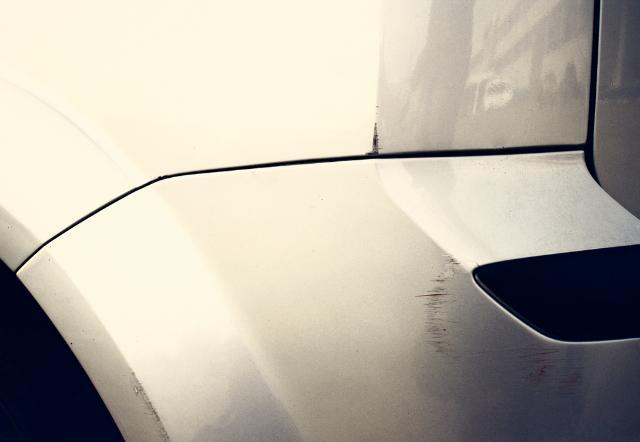scratch: (421, 255, 580, 398), (127, 370, 173, 442), (363, 121, 382, 157)
